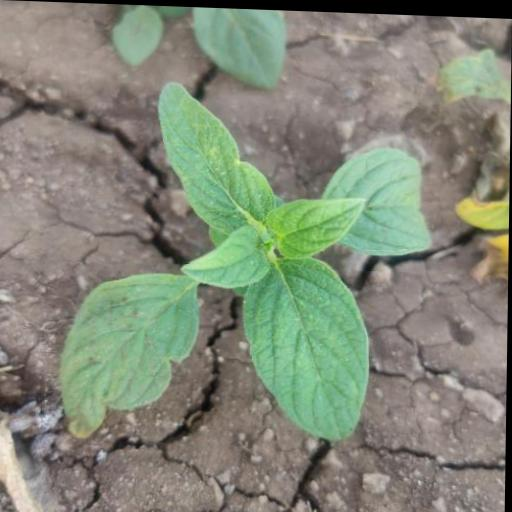crop: (52, 96, 452, 468)
